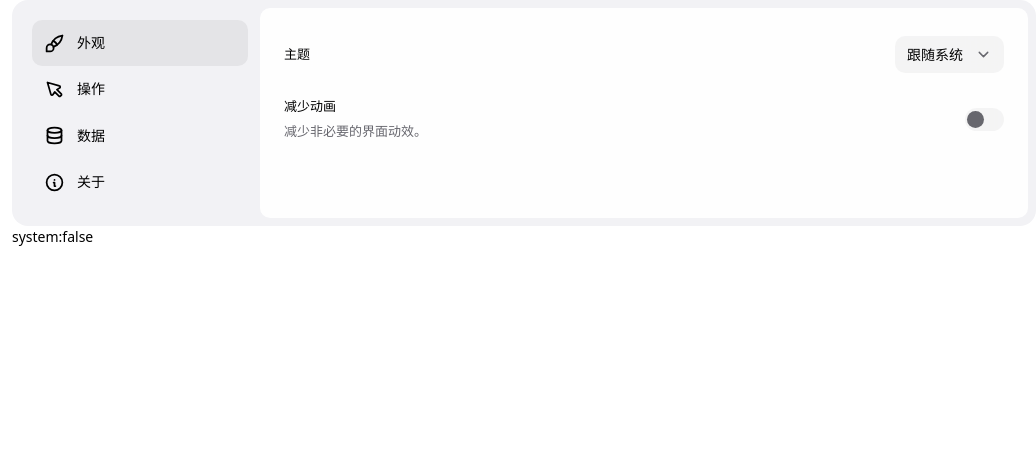
软件设置直接应用 › 操作中的开机自启默认关闭，开启后写入系统自启项
Click the button "操作".
click(140, 90)  # box top-left (32, 66), bottom-right (248, 113)
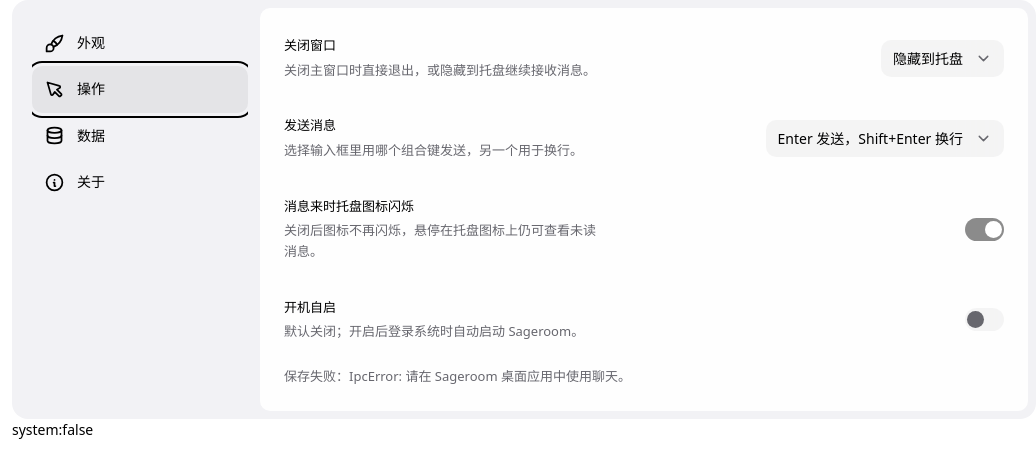
Click the switch named "开机自启".
click(984, 320)  # box top-left (965, 308), bottom-right (1004, 331)
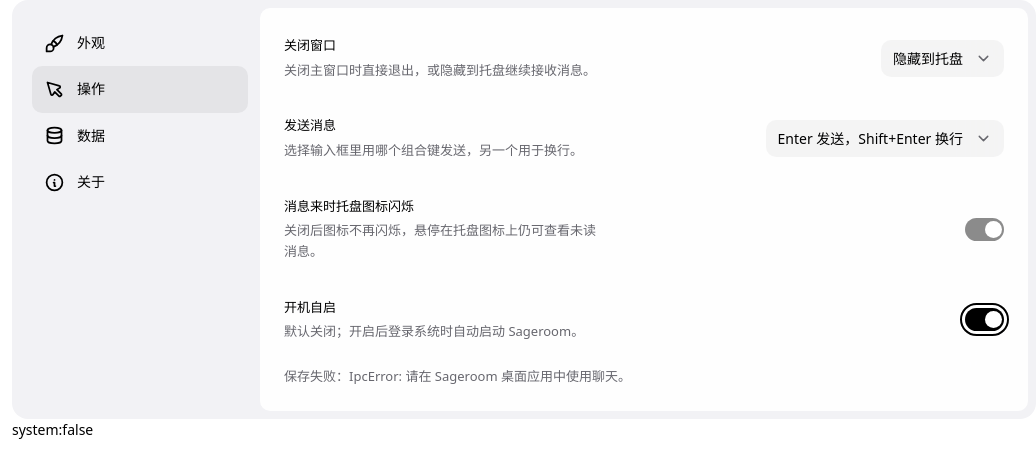
Check: the switch named "开机自启" has attribute data-state="checked", box top-left (965, 308), bottom-right (1004, 331)
